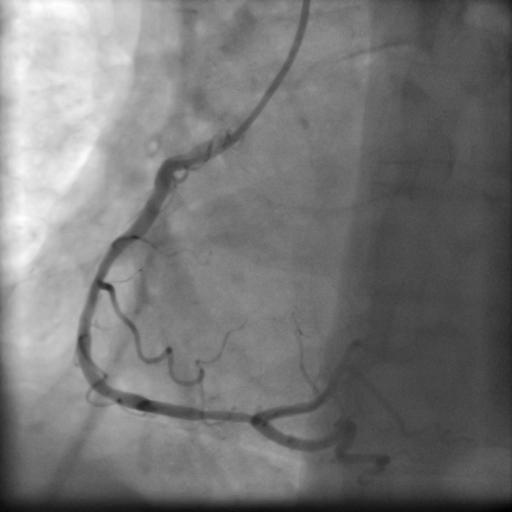Stenosis: (196, 404, 253, 430)
